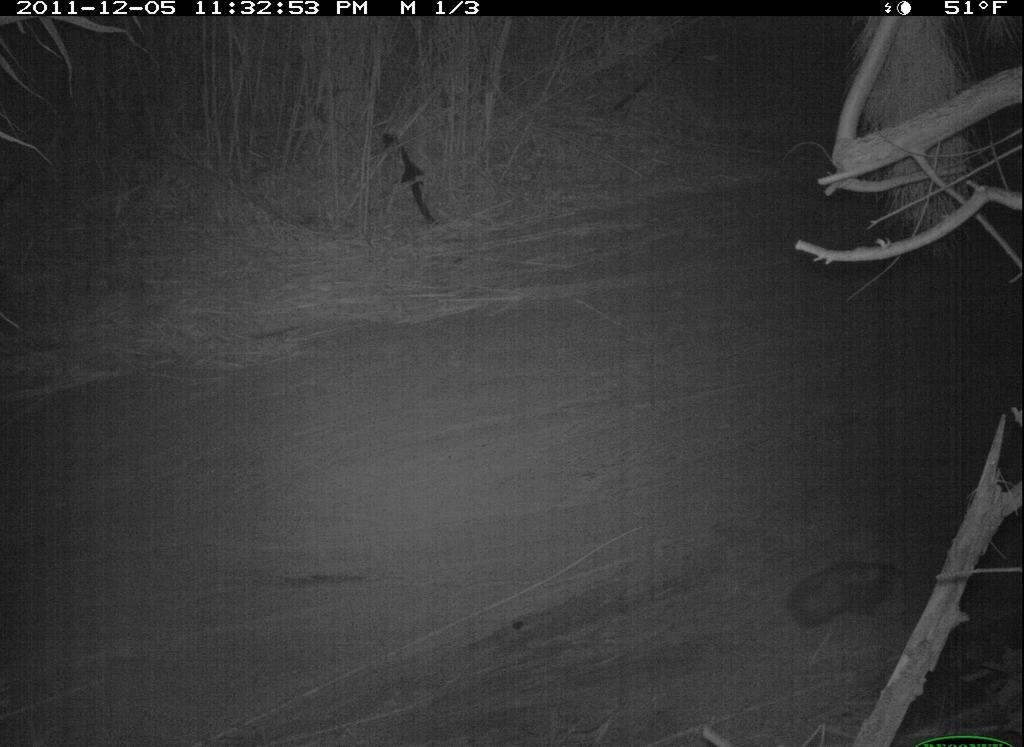opossum: (749, 546, 934, 638)
